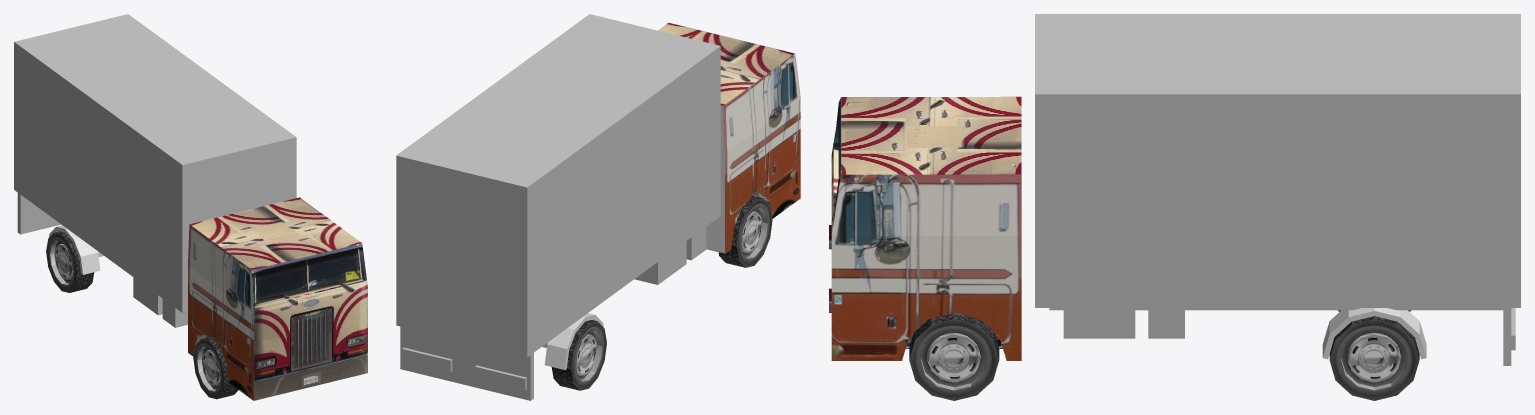
File: kamion.fbx
3 renders of one model, left to right at view 1: azimuth 30°, elevation 25°; view 2: azimuth 150°, elevation 25°; view 3: azimuth 270°, elevation 25°, orthographic. The views are drawn at different scales.
Parts seen in each view (by area): view 1: Cube, glava, guma.002, guma.003, Cube.006, Cube.005, zadnji; view 2: Cube, glava, Cube.005, guma.002, guma.003, Cube.006, zadnji; view 3: Cube, glava, guma.001, guma, Cube.007, zadnji, Cube.005.
Part boxes in pixels (left/top/right/bottom): Cube: left=14, top=14, right=296, bottom=313; glava: left=188, top=197, right=367, bottom=400; guma.002: left=46, top=231, right=94, bottom=292; guma.003: left=193, top=336, right=238, bottom=399; Cube.006: left=133, top=277, right=187, bottom=327; Cube.005: left=17, top=193, right=60, bottom=234; zadnji: left=49, top=225, right=100, bottom=274; Cube: left=396, top=14, right=720, bottom=357; glava: left=658, top=22, right=800, bottom=253; Cube.005: left=400, top=326, right=533, bottom=400; guma.002: left=551, top=320, right=606, bottom=390; guma.003: left=718, top=196, right=772, bottom=267; Cube.006: left=634, top=227, right=706, bottom=284; zadnji: left=544, top=313, right=603, bottom=369; Cube: left=1035, top=14, right=1520, bottom=310; glava: left=829, top=96, right=1021, bottom=360; guma.001: left=909, top=313, right=999, bottom=400; guma: left=1329, top=316, right=1419, bottom=400; Cube.007: left=1063, top=308, right=1184, bottom=338; zadnji: left=1322, top=308, right=1426, bottom=359; Cube.005: left=1503, top=308, right=1515, bottom=365.
Bounding box in the file's own units: 728 × 209 × 354.
